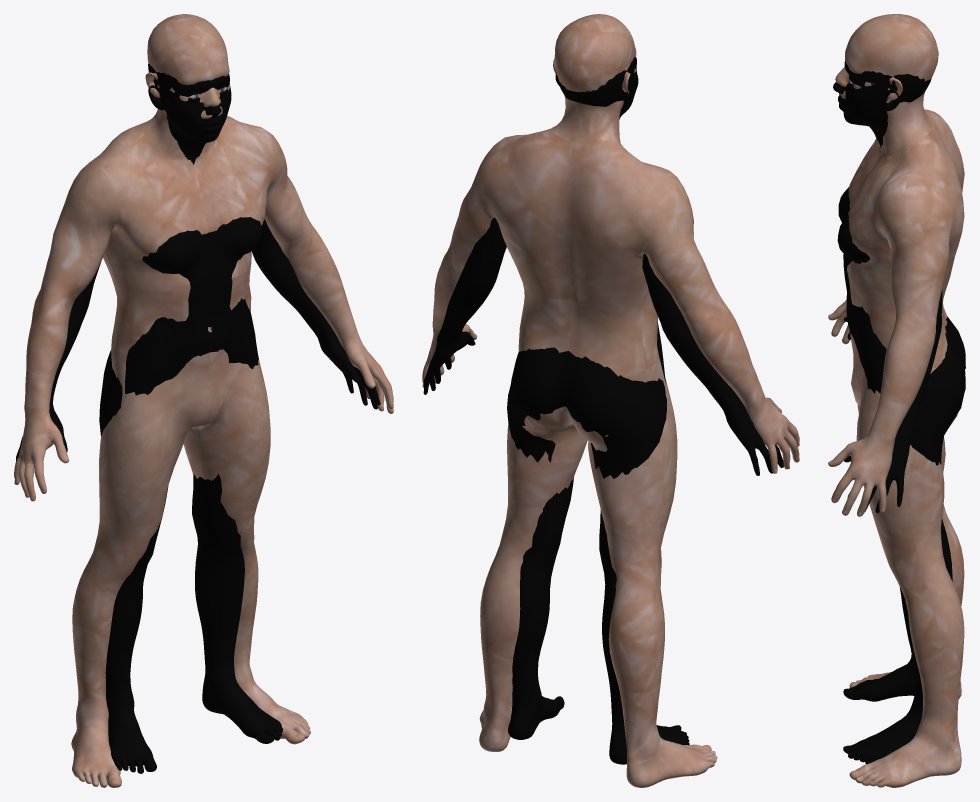
File: models.glb
The picture shows the model from 3 angles, left to right: view 1: azimuth 30°, elevation 25°; view 2: azimuth 150°, elevation 25°; view 3: azimuth 270°, elevation 25°; orthographic projection.
Visible parts, largest first — view 1: male, female; view 2: male, female; view 3: male, female.
Boxes of the visible parts, left/top/right/bottom form: male: left=14, top=14, right=393, bottom=787; female: left=16, top=64, right=380, bottom=773; male: left=422, top=14, right=799, bottom=787; female: left=423, top=57, right=783, bottom=764; male: left=828, top=14, right=964, bottom=787; female: left=833, top=59, right=965, bottom=764.
Bounding box in the file's own units: 0.8807 × 1.69 × 0.293.
Materials: 3 (3 with a texture image).
